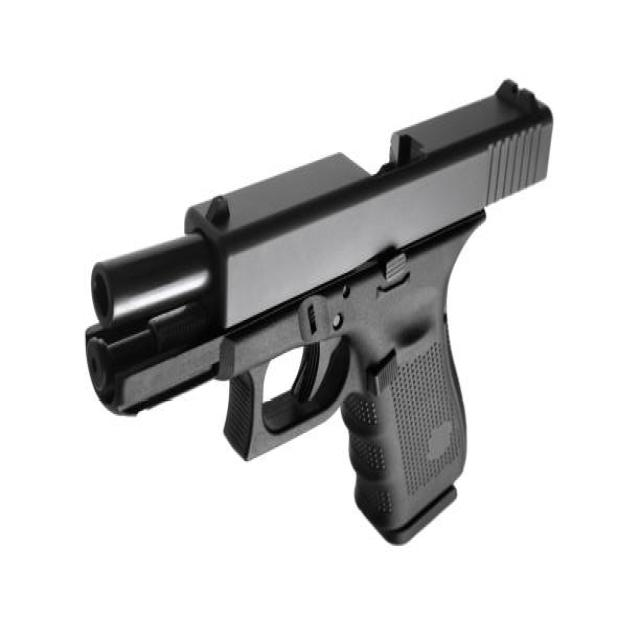pistol: (76, 75, 559, 552)
